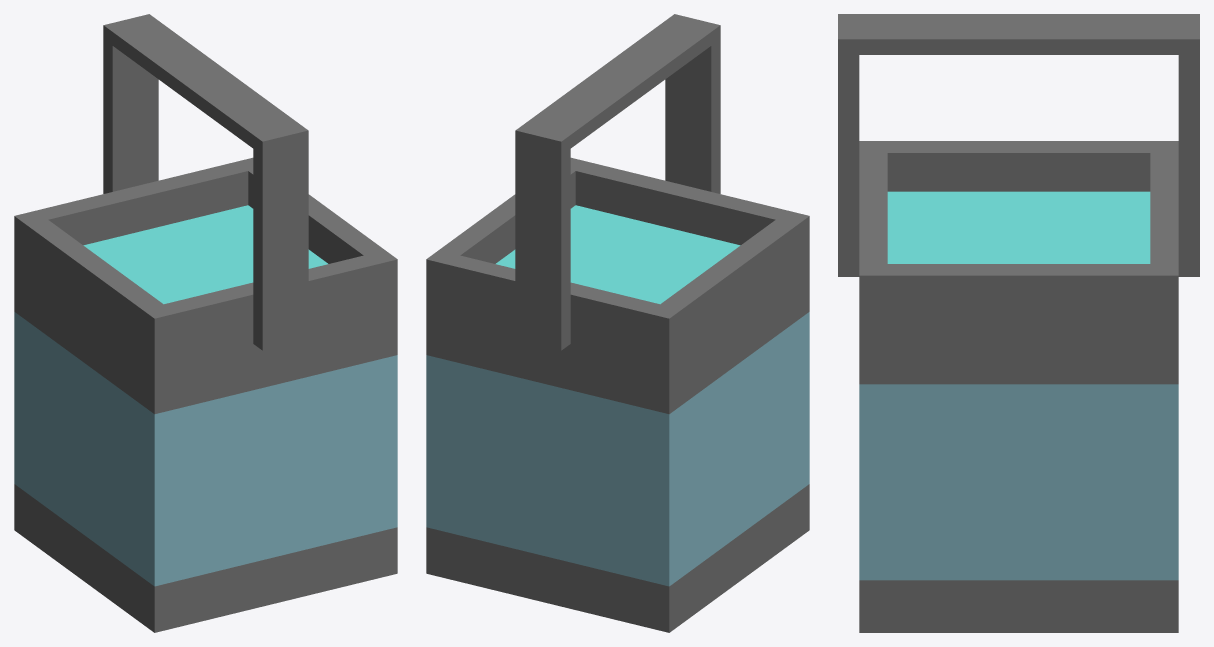
The model's file is Paint Light Blue.gltf.
3 renders of one model, left to right at view 1: azimuth 30°, elevation 25°; view 2: azimuth 150°, elevation 25°; view 3: azimuth 270°, elevation 25°, orthographic. The views are drawn at different scales.
Parts seen in each view (by area): view 1: Pain Can; view 2: Pain Can; view 3: Pain Can.
Boxes of the visible parts, bbox=[...] form: Pain Can: bbox=[14, 14, 397, 632]; Pain Can: bbox=[426, 14, 809, 632]; Pain Can: bbox=[838, 14, 1199, 632].
Size of the model in its own units: 2 by 3.73 by 2.27.
